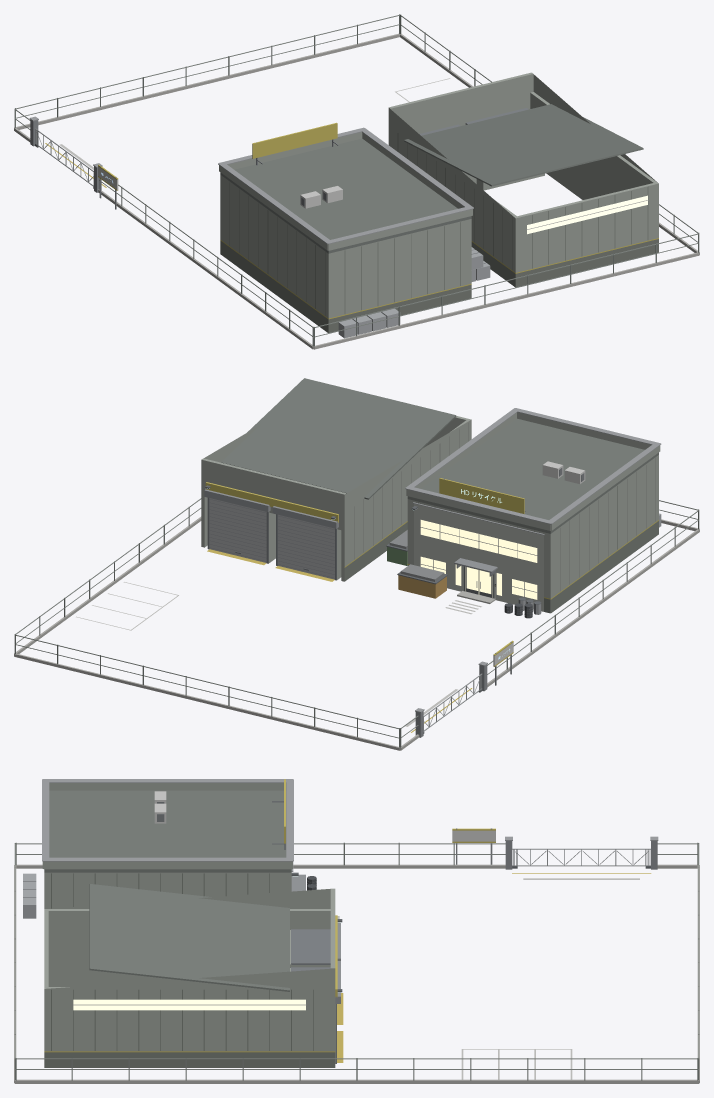
File: biz_4009.glb
The picture shows the model from 3 angles, top to bottom: view 1: azimuth 30°, elevation 25°; view 2: azimuth 150°, elevation 25°; view 3: azimuth 270°, elevation 25°; orthographic projection. The views are drawn at different scales.
Parts seen in each view (by area): view 1: Static, Windows; view 2: Static, Shutter_Down, Windows; view 3: Static, Windows, Gate_Closed.
Boxes of the visible parts, bbox=[...] form: Static: bbox=[14, 14, 699, 349]; Windows: bbox=[527, 195, 647, 234]; Static: bbox=[14, 378, 699, 750]; Shutter_Down: bbox=[209, 498, 334, 579]; Windows: bbox=[420, 520, 537, 599]; Static: bbox=[14, 779, 699, 1083]; Windows: bbox=[73, 999, 305, 1010]; Gate_Closed: bbox=[512, 848, 650, 868].
Size of the model in its own units: 35.6 by 9.16 by 47.16.
